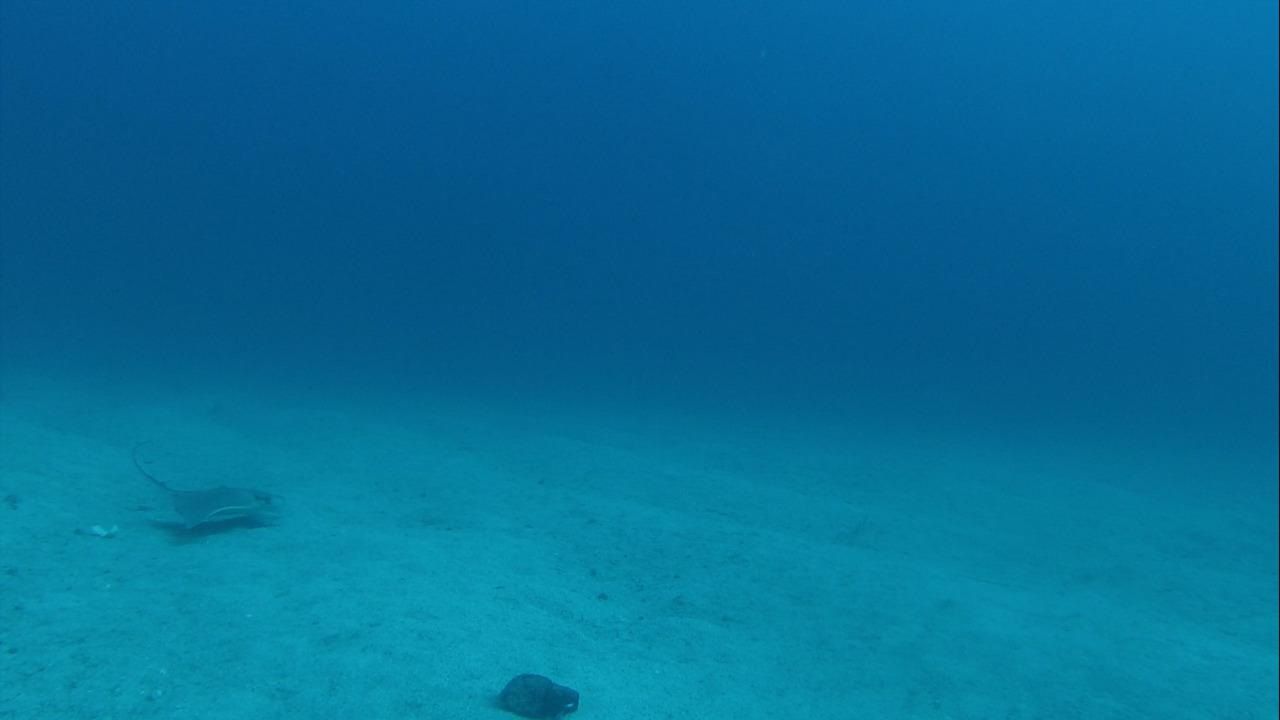myliobatis: (106, 429, 281, 538)
